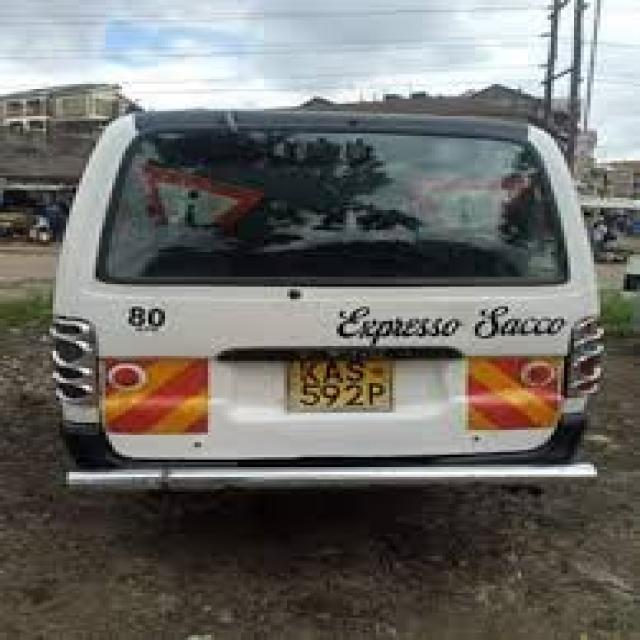matatu: (26, 49, 640, 520)
